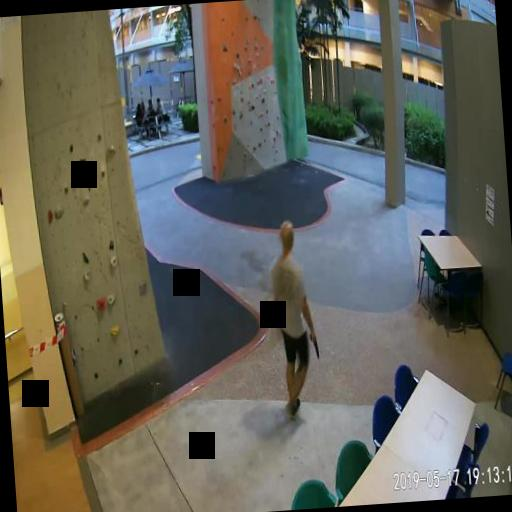Handgun: (308, 331, 318, 357)
